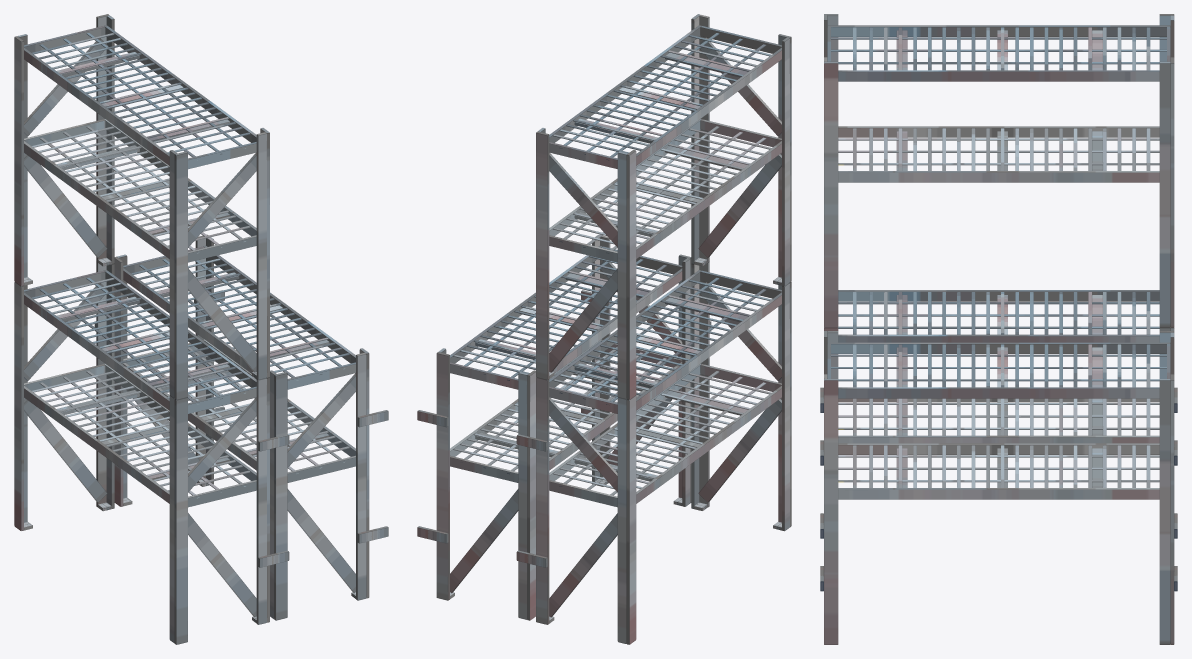
File: Shelving_3.fbx
The picture shows the model from 3 angles, left to right: view 1: azimuth 30°, elevation 25°; view 2: azimuth 150°, elevation 25°; view 3: azimuth 270°, elevation 25°; orthographic projection. The views are drawn at different scales.
Parts seen in each view (by area): view 1: cuboid_140, cuboid_2, cuboid_214, cuboid_147, cuboid_5, cuboid_221, cuboid_142, cuboid, cuboid_8, cuboid_78, cuboid_109, cuboid_39 (+43 smaller); view 2: cuboid_144, cuboid_6, cuboid_218, cuboid_142, cuboid, cuboid_143, cuboid_1, cuboid_217, cuboid_216, cuboid_141, cuboid_3, cuboid_8 (+39 smaller); view 3: cuboid_146, cuboid_220, cuboid_79, cuboid_110, cuboid_153, cuboid_184, cuboid_78, cuboid_152, cuboid_145, cuboid_219, cuboid_109, cuboid_183 (+24 smaller).
Boxes of the visible parts, left/top/right/bottom form: cuboid_140: left=174, top=151, right=187, bottom=399; cuboid_2: left=174, top=397, right=187, bottom=644; cuboid_214: left=274, top=372, right=287, bottom=620; cuboid_147: left=256, top=132, right=266, bottom=379; cuboid_5: left=256, top=378, right=266, bottom=624; cuboid_221: left=356, top=352, right=366, bottom=600; cuboid_142: left=14, top=36, right=23, bottom=286; cuboid: left=14, top=282, right=23, bottom=530; cuboid_8: left=24, top=385, right=169, bottom=503; cuboid_78: left=24, top=47, right=169, bottom=165; cuboid_109: left=24, top=141, right=169, bottom=258; cuboid_39: left=24, top=292, right=169, bottom=410; cuboid_144: left=536, top=131, right=549, bottom=379; cuboid_6: left=536, top=377, right=549, bottom=624; cuboid_218: left=436, top=352, right=449, bottom=600; cuboid_142: left=626, top=150, right=636, bottom=399; cuboid: left=626, top=396, right=636, bottom=644; cuboid_143: left=617, top=151, right=627, bottom=399; cuboid_1: left=617, top=397, right=626, bottom=643; cuboid_217: left=518, top=372, right=528, bottom=619; cuboid_216: left=527, top=370, right=535, bottom=620; cuboid_141: left=782, top=37, right=789, bottom=286; cuboid_3: left=782, top=283, right=789, bottom=531; cuboid_8: left=636, top=385, right=781, bottom=503; cuboid_146: left=824, top=61, right=838, bottom=327; cuboid_220: left=824, top=379, right=838, bottom=644; cuboid_79: left=838, top=70, right=1159, bottom=81; cuboid_110: left=838, top=171, right=1159, bottom=182; cuboid_153: left=838, top=387, right=1159, bottom=398; cuboid_184: left=838, top=488, right=1159, bottom=499; cuboid_78: left=827, top=25, right=1170, bottom=36; cuboid_152: left=827, top=342, right=1170, bottom=353; cuboid_145: left=1159, top=61, right=1170, bottom=327; cuboid_219: left=1159, top=379, right=1170, bottom=644; cuboid_109: left=838, top=126, right=1159, bottom=137; cuboid_183: left=838, top=443, right=1159, bottom=454.
Size of the model in its own units: 225 by 500 by 306.
Materials: 3 (3 with a texture image).
